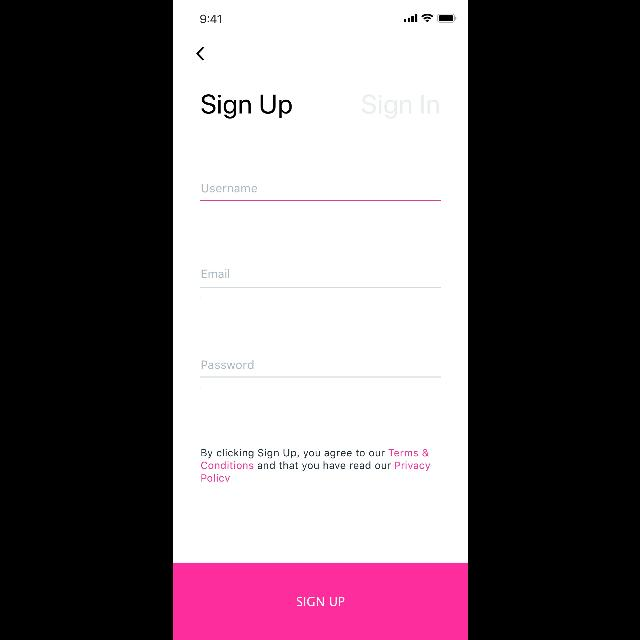icon: (195, 47, 202, 61)
input: (200, 360, 440, 378), (200, 270, 440, 288), (200, 184, 440, 202)
text: (200, 448, 430, 482), (200, 95, 292, 119), (362, 95, 438, 119), (202, 185, 256, 193), (201, 361, 253, 369), (201, 270, 229, 278)
textbutton: (172, 562, 468, 640)
uppertaskbar: (200, 14, 456, 24)
